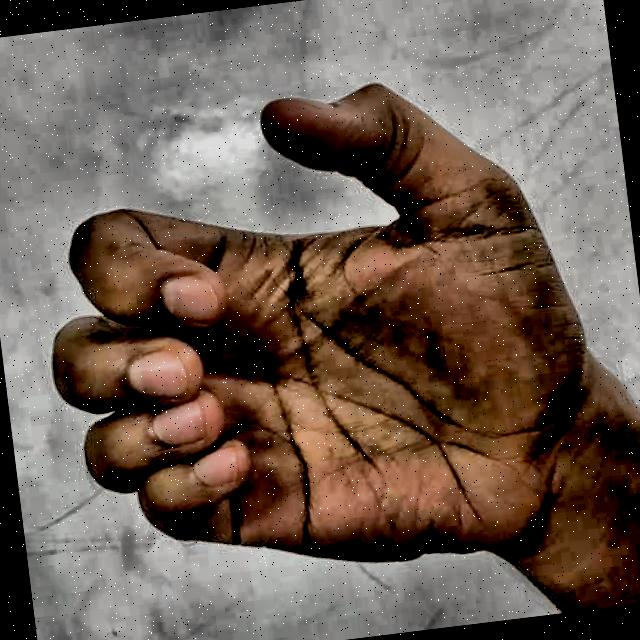Dho: (10, 29, 632, 640)
